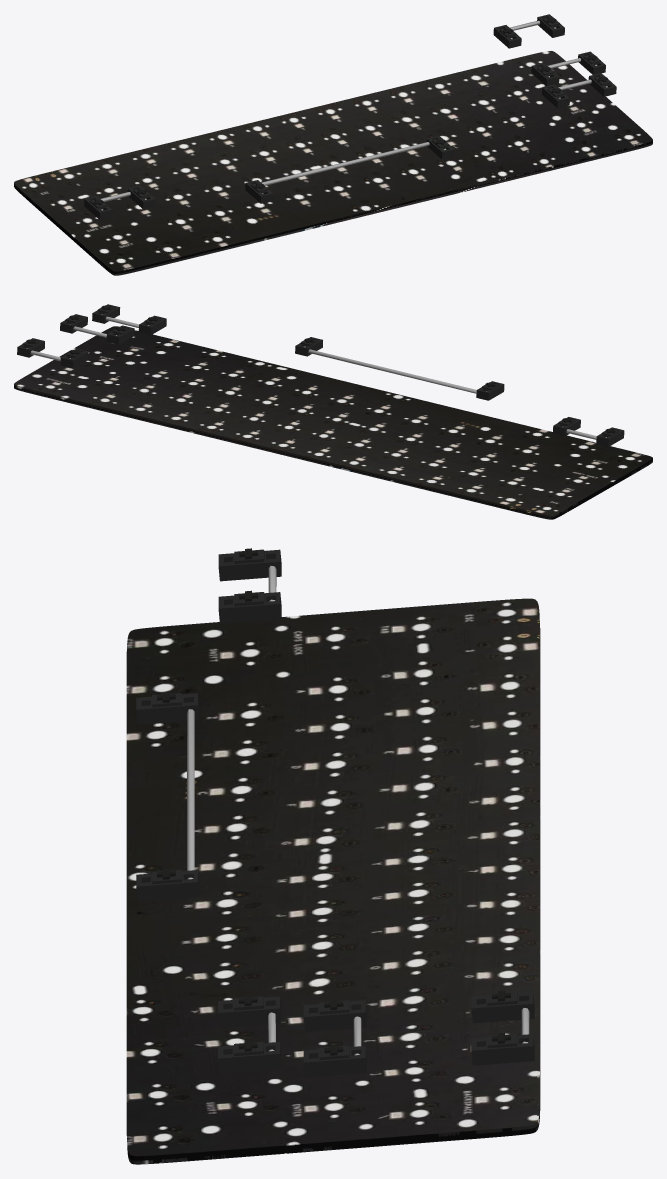
File: keyboard_ani_1.glb
The picture shows the model from 3 angles, top to bottom: view 1: azimuth 30°, elevation 25°; view 2: azimuth 150°, elevation 25°; view 3: azimuth 270°, elevation 25°; orthographic projection. The views are drawn at different scales.
Visible parts, largest first — view 1: 60 pcb, Cylinder.511; view 2: 60 pcb, Cylinder.511; view 3: 60 pcb, Cube.021, Cube.030, Cube.011, Cube.017, Cube.034, Cube.032, Cube.007, Cube.019, Cube.012, Cube.036, Cylinder.511.
Part boxes in pixels (box(x1,y1,x2,y2)): 60 pcb: box(14, 51, 652, 275); Cylinder.511: box(261, 142, 446, 193); 60 pcb: box(14, 326, 652, 519); Cylinder.511: box(303, 346, 486, 393); 60 pcb: box(126, 598, 540, 1164); Cube.021: box(218, 592, 281, 623); Cube.030: box(303, 1046, 366, 1077); Cube.011: box(471, 1034, 534, 1065); Cube.017: box(136, 870, 199, 901); Cube.034: box(218, 1042, 281, 1073); Cube.032: box(303, 1000, 366, 1031); Cube.007: box(218, 549, 281, 581); Cube.019: box(136, 693, 199, 724); Cube.012: box(471, 991, 534, 1023); Cube.036: box(218, 996, 281, 1027); Cylinder.511: box(187, 709, 194, 879).
Size of the model in its own units: 0.2843 by 0.0299 by 0.094.
Materials: 4 (1 with a texture image).
